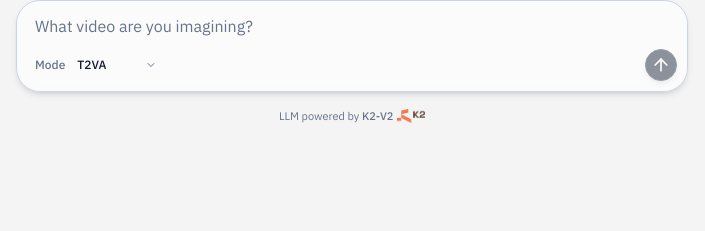
Test: ChatBar generation mode selection › shows only mode abbreviations and keeps explanations in the tooltip
This screenshot has width=705, height=231.
Click the dropdown named "Generation mode". click: [117, 65]
box: [69, 49, 165, 81]
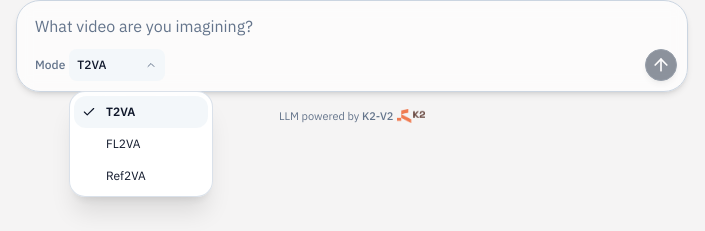
Check: the options read "T2VA", "FL2VA", "Ref2VA", in this order, box [74, 96, 208, 128]; [106, 136, 140, 151]; [106, 168, 146, 183]
